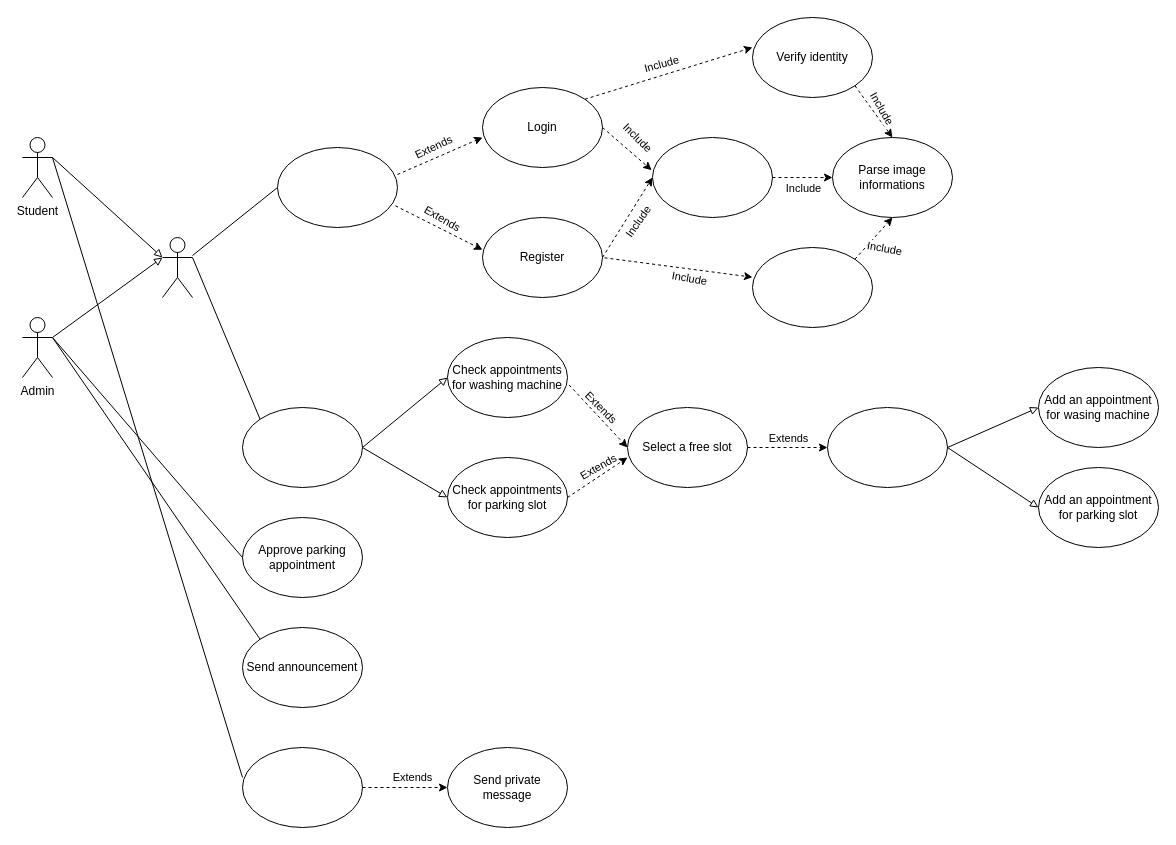
Some shapes in this 1176 by 845 pixel diagram are drawn without their labels. The shapes that lost their labels are listed below. From the top down, each one's box as (x1, y1, x2, y2) in pixels, then its label:
(276, 146, 398, 228): Connect
(652, 136, 772, 218): Send Image
(162, 236, 192, 298): User
(752, 246, 872, 328): Add identity
(242, 406, 362, 488): Check appointments
(826, 406, 948, 488): Add an appointment
(242, 746, 362, 828): Search person
